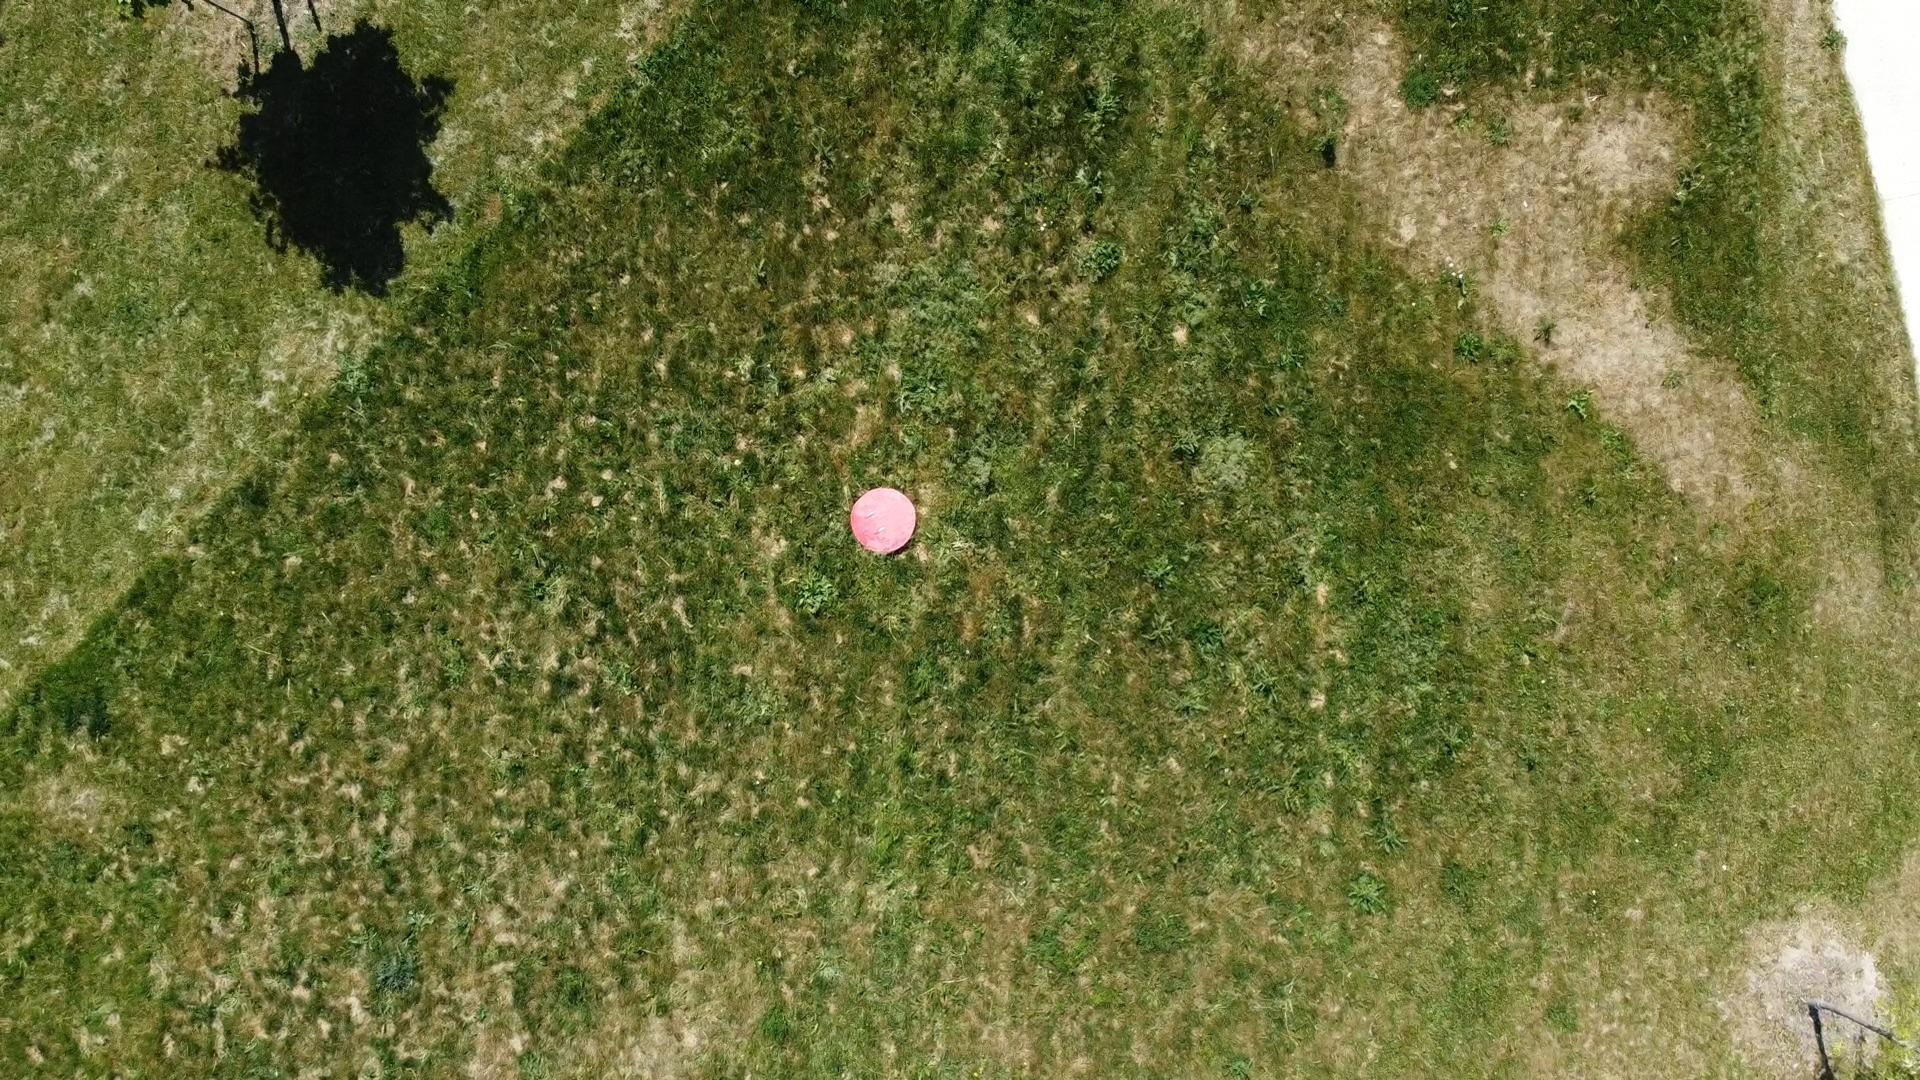Red: (848, 485, 919, 555)
